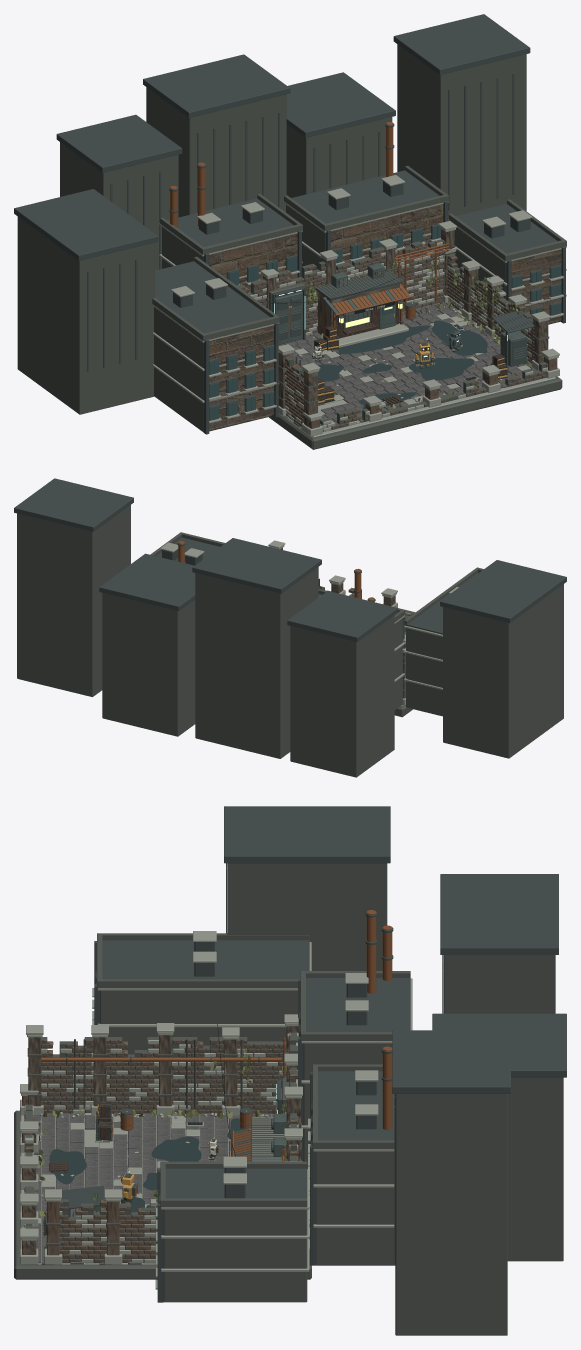
Rendered from afterlight-rain-court.glb.
3 renders of one model, top to bottom at view 1: azimuth 30°, elevation 25°; view 2: azimuth 150°, elevation 25°; view 3: azimuth 270°, elevation 25°, orthographic. The views are drawn at different scales.
Parts seen in each view (by area): view 1: Skyline 4 / silhouette, Skyline 3 / silhouette, Skyline 1 / silhouette, Skyline 4 / crown, Skyline 2 / silhouette, Skyline 1 / crown, Skyline 0 / silhouette, Skyline 3 / crown, Skyline 2 / crown, Skyline 0 / crown, West turbine hall / masonry mass, West turbine hall / roof cap (+25 smaller); view 2: Skyline 1 / silhouette, Skyline 4 / silhouette, Skyline 3 / silhouette, Skyline 0 / silhouette, Skyline 2 / silhouette, Skyline 4 / crown, Skyline 1 / crown, Skyline 3 / crown, Skyline 2 / crown, Skyline 0 / crown, West turbine hall / masonry mass, North foundry / masonry mass (+3 smaller); view 3: Skyline 3 / silhouette, Skyline 4 / silhouette, East service block / masonry mass, Skyline 2 / silhouette, Skyline 4 / crown, East warehouse / masonry mass, West turbine hall / masonry mass, Skyline 1 / crown, Skyline 3 / crown, West turbine hall / roof cap, Skyline 1 / silhouette, Skyline 2 / crown (+31 smaller).
Boxes of the visible parts, box(x1,y1,x2,y2) form: Skyline 4 / silhouette: box(17, 216, 154, 414); Skyline 3 / silhouette: box(397, 44, 526, 218); Skyline 1 / silhouette: box(146, 87, 286, 217); Skyline 4 / crown: box(14, 189, 158, 260); Skyline 2 / silhouette: box(286, 117, 392, 197); Skyline 1 / crown: box(143, 54, 290, 117); Skyline 0 / silhouette: box(60, 142, 178, 270); Skyline 3 / crown: box(393, 14, 530, 74); Skyline 2 / crown: box(286, 72, 395, 137); Skyline 0 / crown: box(56, 114, 182, 172); West turbine hall / masonry mass: box(154, 307, 273, 432); West turbine hall / roof cap: box(155, 261, 269, 333); Skyline 1 / silhouette: box(195, 567, 318, 758); Skyline 4 / silhouette: box(443, 584, 563, 758); Skyline 3 / silhouette: box(17, 505, 130, 696); Skyline 0 / silhouette: box(290, 615, 394, 777); Skyline 2 / silhouette: box(102, 593, 195, 736); Skyline 4 / crown: box(440, 560, 566, 623); Skyline 1 / crown: box(192, 538, 321, 593); Skyline 3 / crown: box(14, 478, 133, 531); Skyline 2 / crown: box(99, 553, 195, 611); Skyline 0 / crown: box(287, 591, 397, 642); West turbine hall / masonry mass: box(406, 626, 442, 716); North foundry / masonry mass: box(394, 618, 402, 709); Skyline 3 / silhouette: box(395, 1094, 507, 1335); Skyline 4 / silhouette: box(227, 863, 387, 970); East service block / masonry mass: box(163, 1209, 307, 1302); Skyline 2 / silhouette: box(507, 1077, 563, 1261); Skyline 4 / crown: box(224, 806, 390, 863); East warehouse / masonry mass: box(316, 1151, 395, 1265); West turbine hall / masonry mass: box(100, 990, 297, 1054); Skyline 1 / crown: box(440, 884, 558, 954); Skyline 3 / crown: box(392, 1030, 510, 1093); West turbine hall / roof cap: box(102, 940, 309, 979); Skyline 1 / silhouette: box(443, 955, 555, 1013); Skyline 2 / crown: box(432, 1013, 566, 1077).
Bounding box in the file's own units: 47.9 × 18.28 × 34.5.
20 materials, 5 textured.
